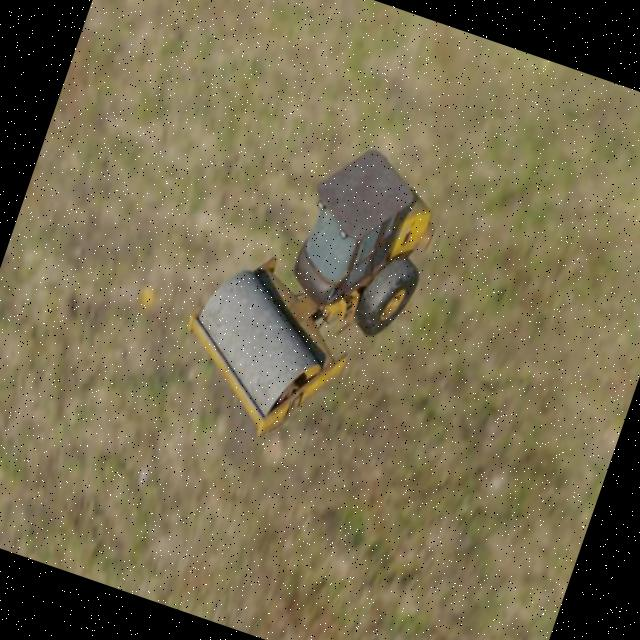Roller: (160, 108, 455, 469)
